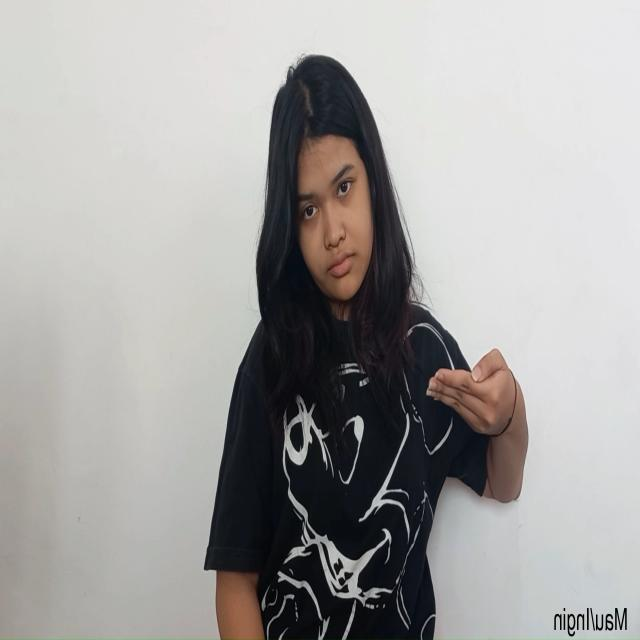Mau-Ingin -BISINDO-: (424, 342, 518, 442)
